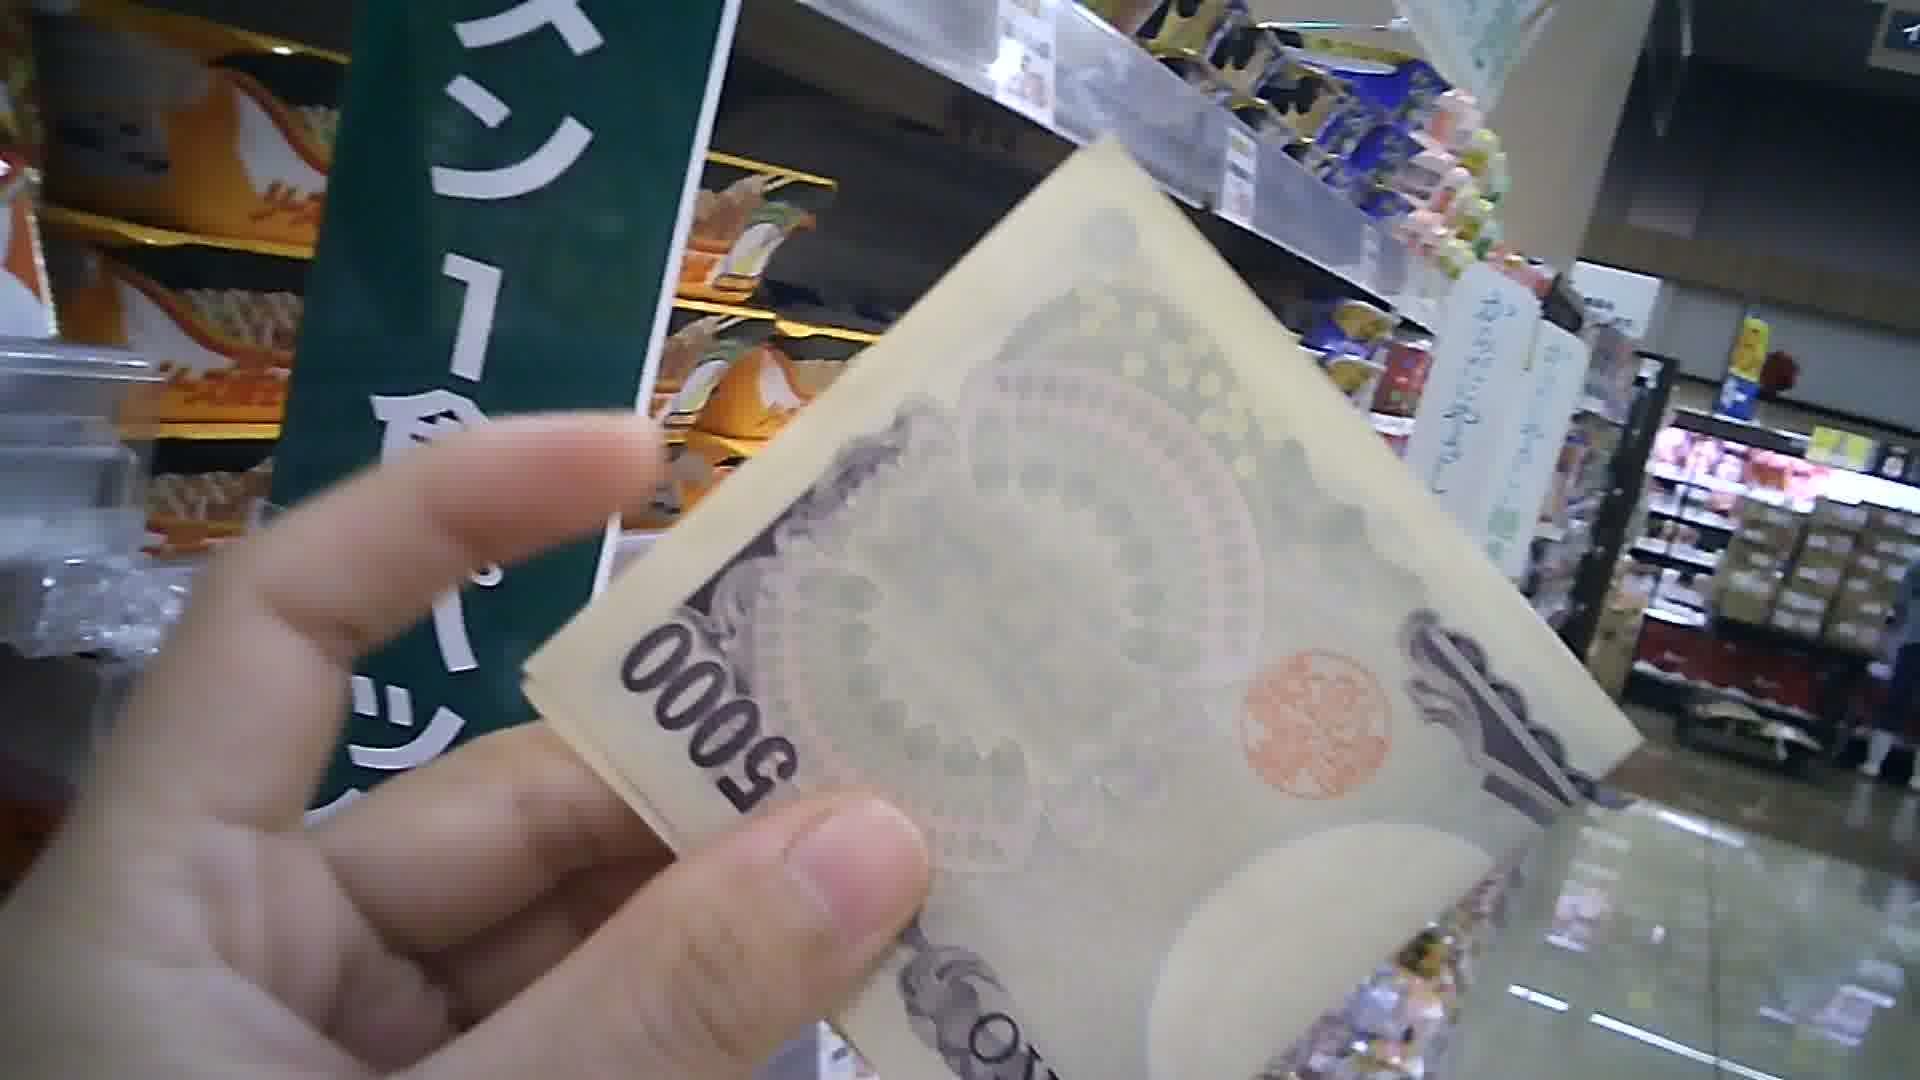5,000 Yen: (564, 149, 1633, 1079)
